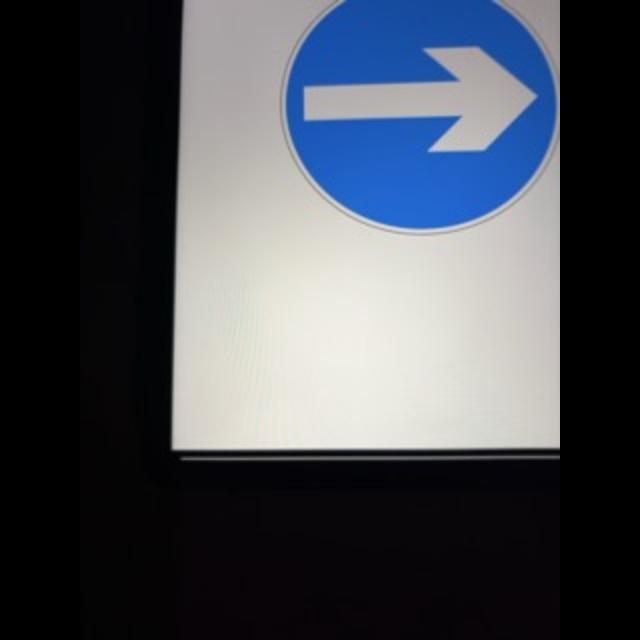TURN RIGHT: (282, 0, 559, 240)
